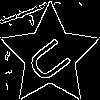U: (25, 30, 81, 87)
